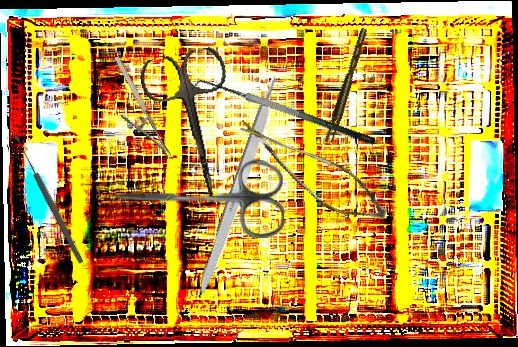Iris Scissors: (137, 44, 253, 213), (110, 160, 284, 238)
Micro Scissor: (223, 119, 399, 229)
Needle Holder: (96, 54, 172, 168)
Scalpel Handle: (193, 74, 286, 302)
Spatula Surgical: (190, 69, 377, 161)
Surgical Spoon: (12, 133, 86, 265)
Tissue Forceps: (320, 27, 374, 145)
